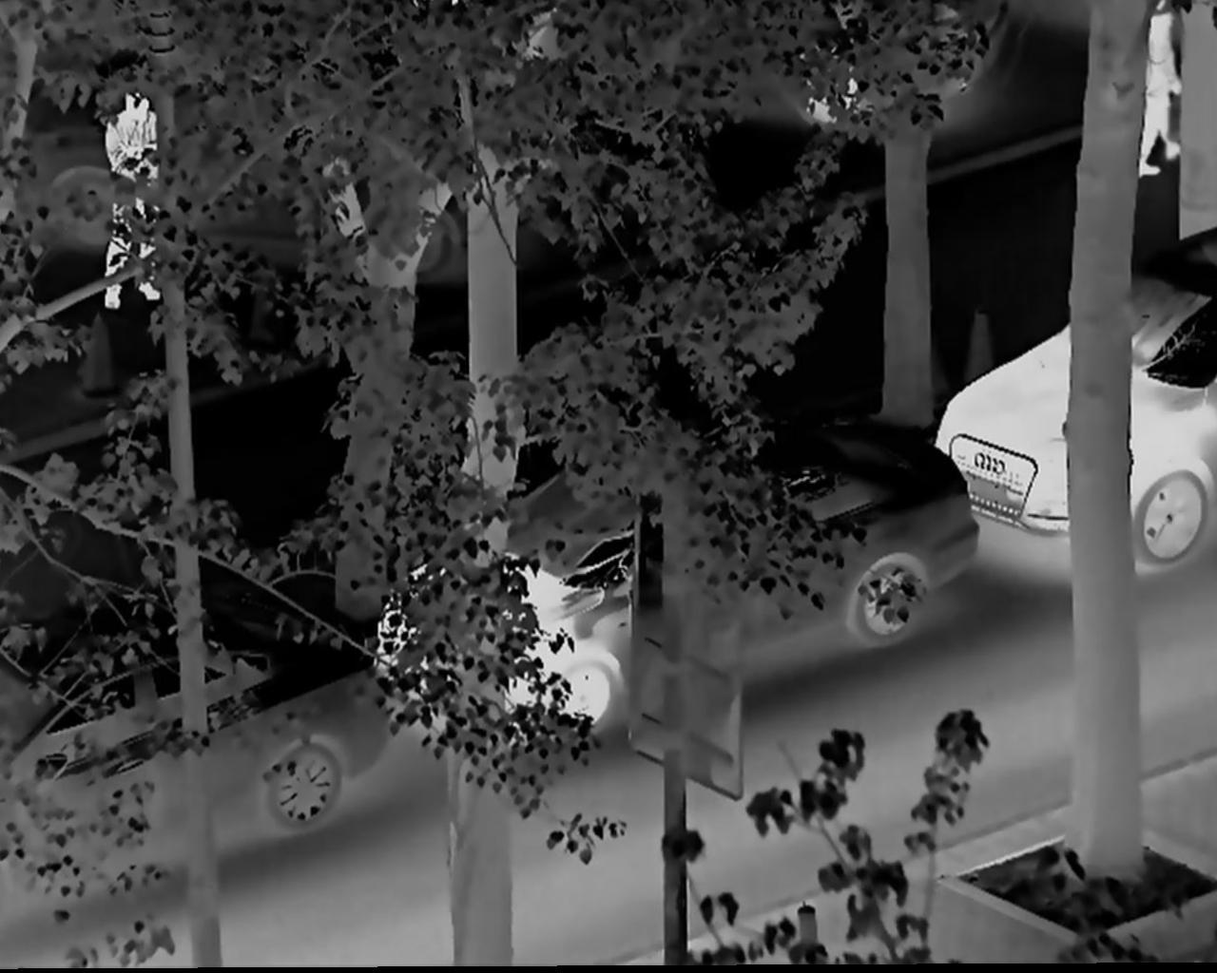person: (99, 88, 164, 310), (1132, 3, 1186, 176)
